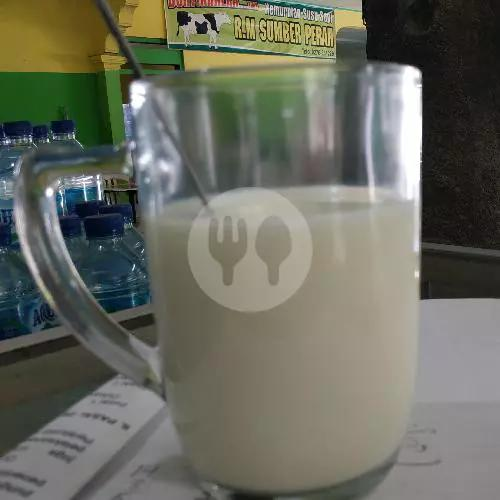produk_susu: (189, 85, 384, 453)
